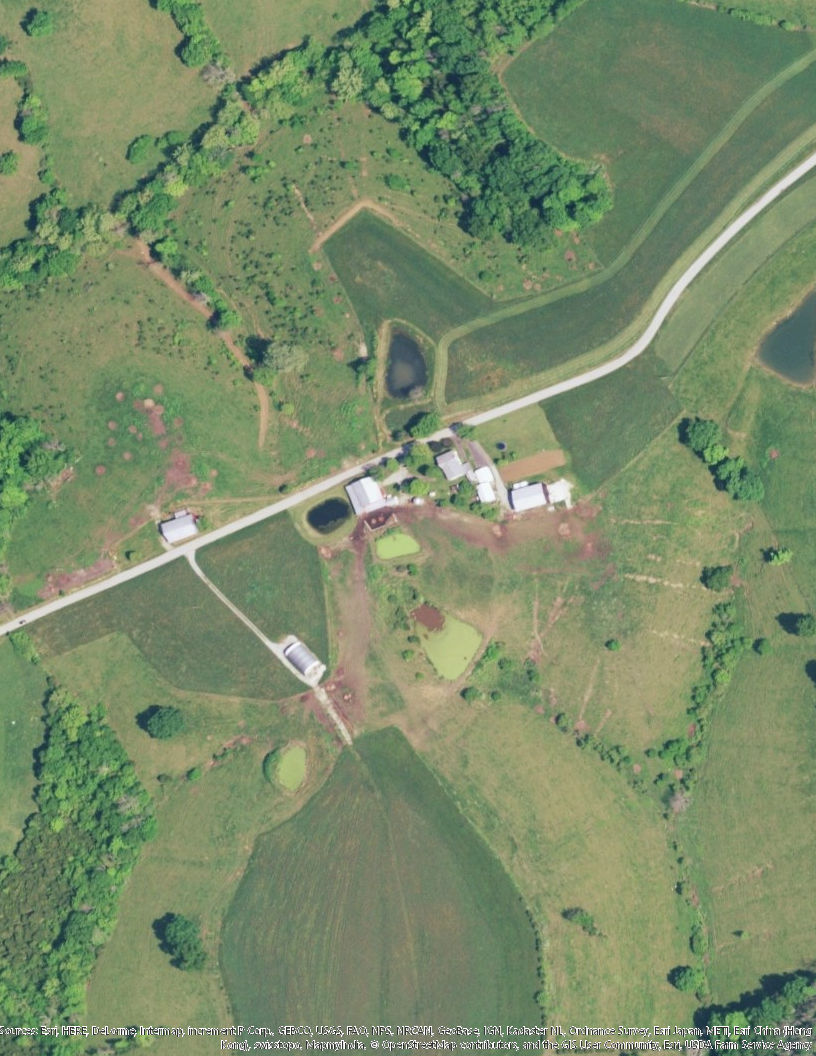cafo: (278, 633, 334, 686), (506, 475, 577, 513), (155, 502, 211, 545), (344, 475, 400, 514)
